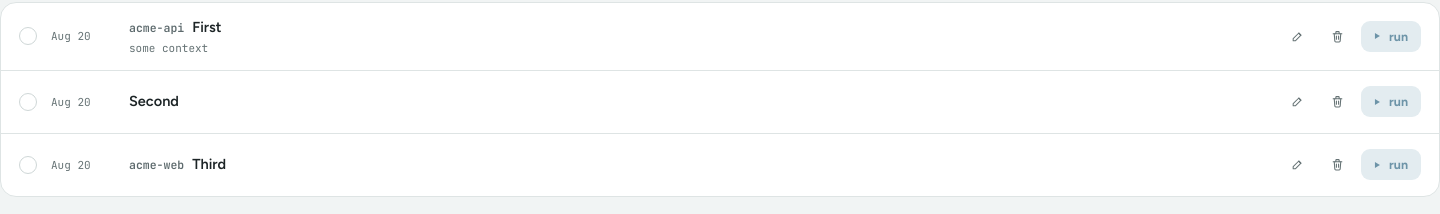
it: BacklogView Run › a failure flashes its reason, marks the button as an error, and logs
Click the button with test id "backlog-play-btn" in the row of "First". click: (1391, 36)
box: [1361,21,1421,52]
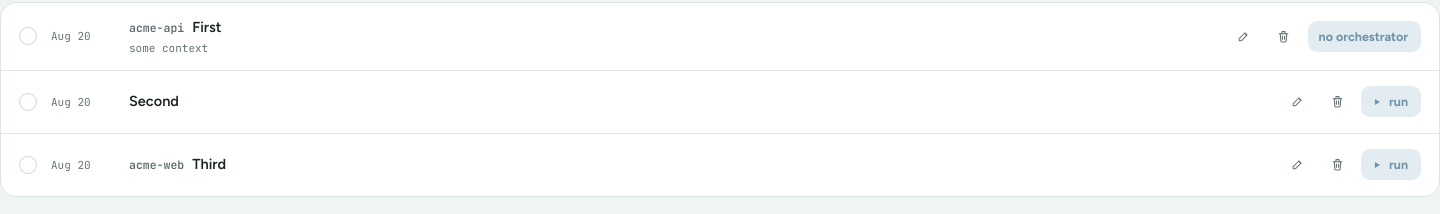
Now the button with test id "backlog-play-btn" reads "no orchestrator", box [1308,21,1421,52]
